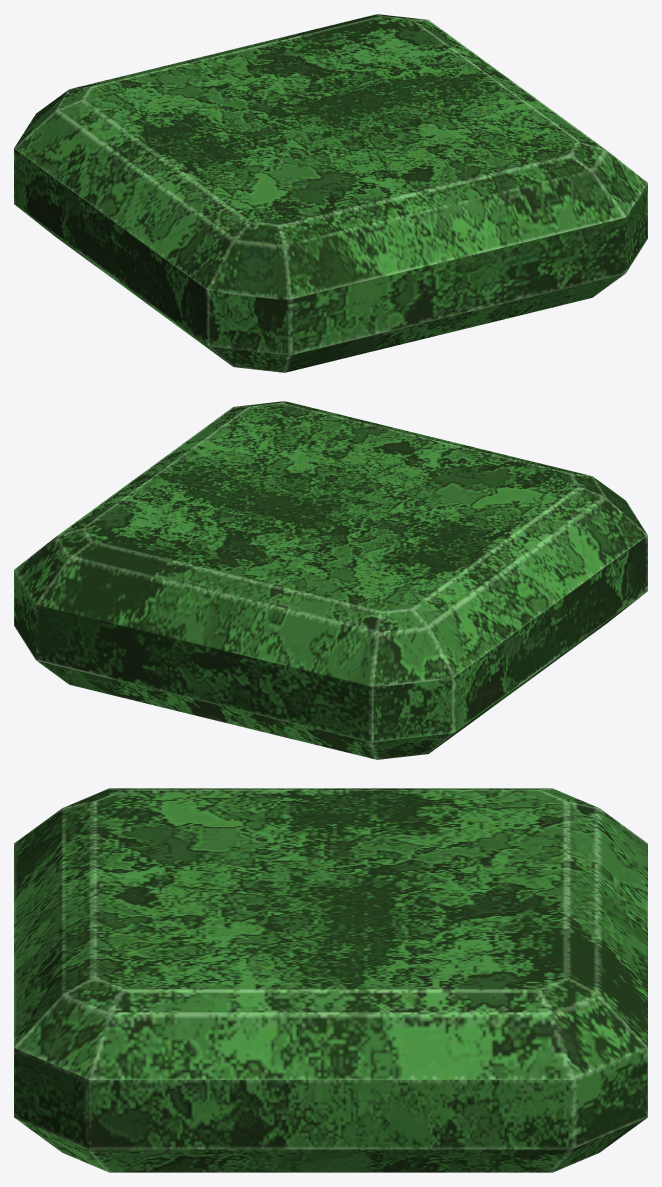
The model's file is Emerald.glb.
3 views of the same model, one above another, from view 1: azimuth 30°, elevation 25°; view 2: azimuth 150°, elevation 25°; view 3: azimuth 270°, elevation 25° (orthographic). The views are drawn at different scales.
Parts seen in each view (by area): view 1: Emerald; view 2: Emerald; view 3: Emerald.
Part boxes in pixels (x1=…): Emerald: x1=14, y1=14, x2=647, y2=372; Emerald: x1=14, y1=401, x2=647, y2=759; Emerald: x1=14, y1=788, x2=647, y2=1172.
Size of the model in its own units: 0.3713 by 0.1171 by 0.3713.
1 material, 1 textured.
